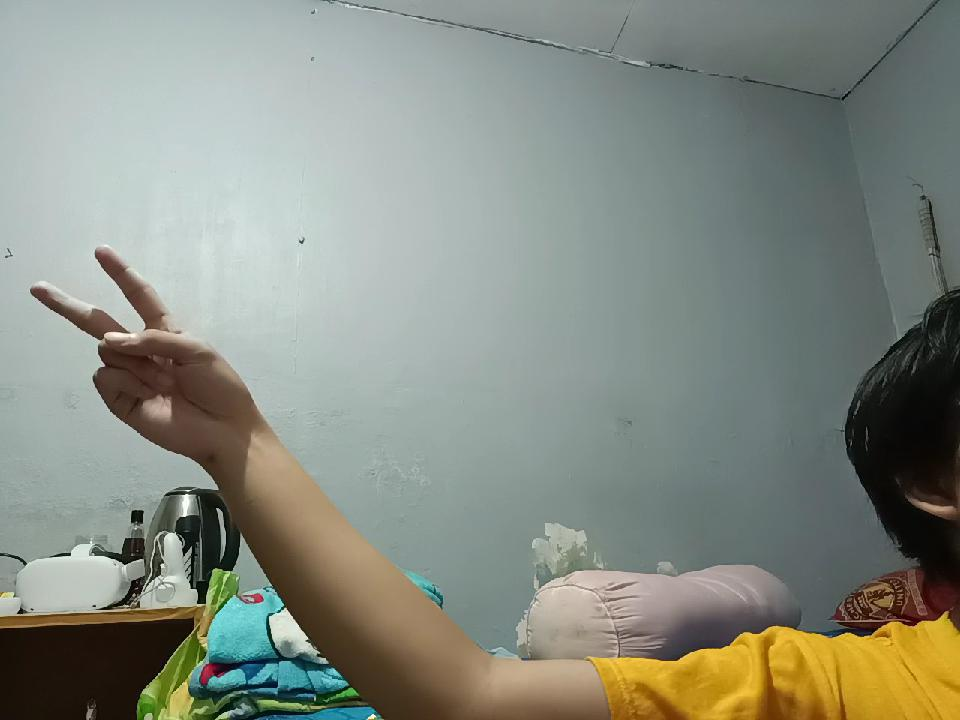scissors: (24, 226, 264, 459)
